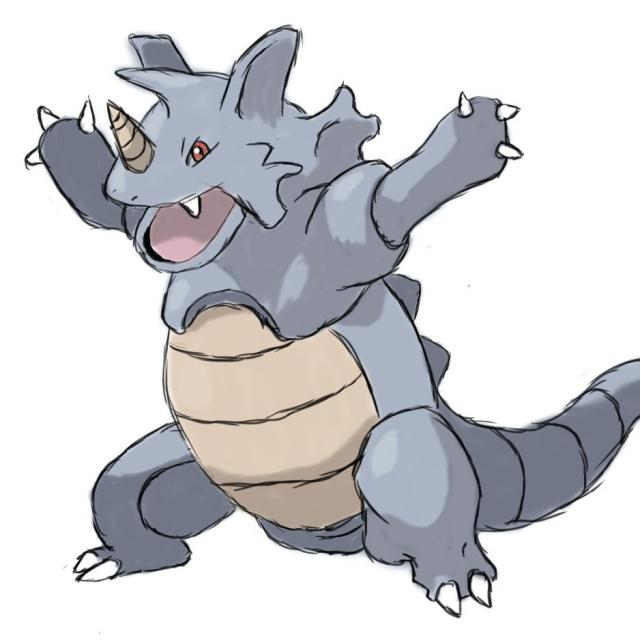Rhydon: (16, 30, 516, 604)
